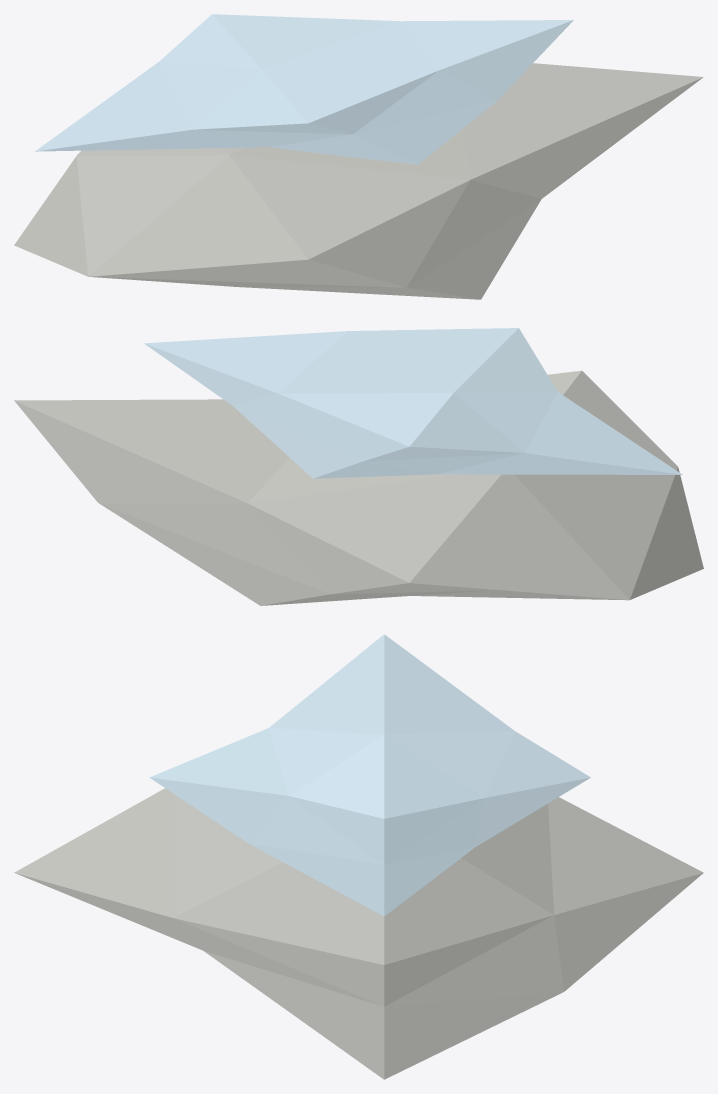
The model's file is puddle_stone_v00.glb.
3 renders of one model, top to bottom at view 1: azimuth 30°, elevation 25°; view 2: azimuth 150°, elevation 25°; view 3: azimuth 270°, elevation 25°, orthographic. The views are drawn at different scales.
Visible parts, largest first — view 1: lod0; view 2: lod0; view 3: lod0.
Part boxes in pixels (bbox=[...]): lod0: bbox=[14, 14, 703, 299]; lod0: bbox=[14, 328, 703, 605]; lod0: bbox=[14, 634, 703, 1079].
Size of what is drawn, in the model's own units: 0.5695 by 0.1717 by 0.4596.
